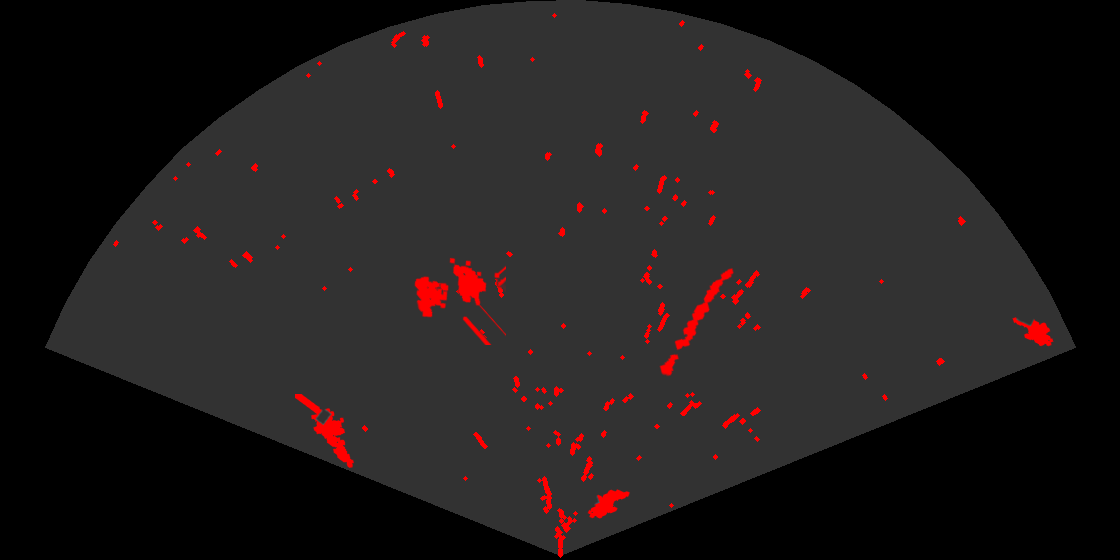AUV: (586, 488, 631, 520), (1011, 316, 1055, 348)
cage: (413, 256, 506, 345)
chain: (658, 266, 735, 378)
frogman: (295, 394, 356, 470)
